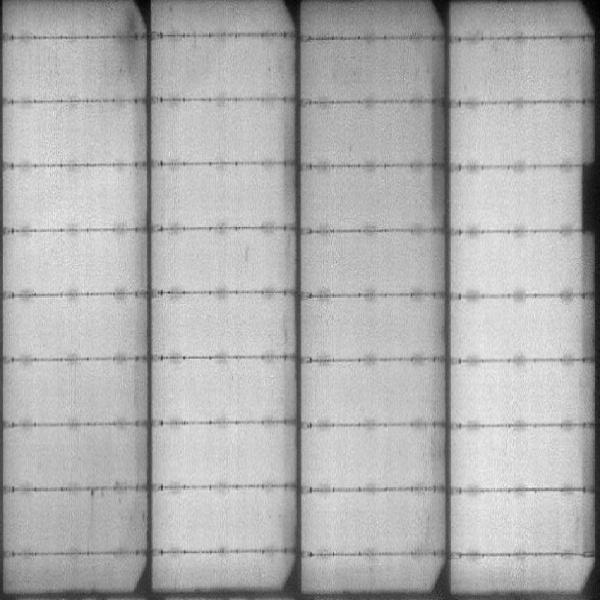black_border: (577, 159, 596, 241)
